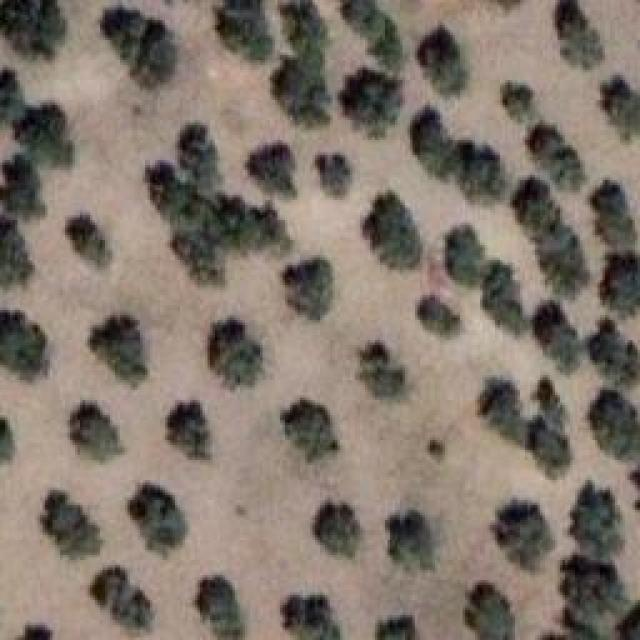Tree: (170, 192, 290, 276), (100, 3, 178, 84), (335, 65, 408, 138), (563, 480, 626, 560), (90, 308, 152, 388), (339, 0, 409, 70), (85, 560, 149, 634), (38, 485, 102, 557), (125, 483, 192, 551), (365, 193, 423, 270), (495, 500, 554, 574), (555, 560, 627, 617), (270, 60, 333, 125), (208, 318, 263, 391), (0, 0, 66, 60), (210, 0, 268, 68), (67, 401, 125, 468), (282, 400, 339, 468), (420, 32, 473, 104), (538, 228, 594, 296), (385, 513, 445, 576), (0, 308, 47, 388), (585, 385, 640, 453), (23, 103, 79, 168), (185, 573, 239, 640), (483, 263, 533, 335), (240, 140, 298, 198), (550, 0, 603, 63), (313, 498, 361, 566), (272, 0, 330, 56), (355, 338, 405, 402), (60, 210, 112, 271), (478, 378, 528, 441), (508, 180, 563, 237), (407, 105, 453, 172), (283, 258, 334, 318), (0, 155, 46, 221), (455, 143, 506, 202), (465, 583, 517, 640), (183, 125, 227, 189), (280, 592, 338, 640), (530, 128, 579, 183), (0, 220, 34, 298), (587, 325, 632, 382), (443, 223, 485, 284), (600, 75, 640, 136), (538, 303, 577, 365), (168, 400, 210, 457), (148, 163, 192, 217), (313, 148, 360, 197), (595, 188, 637, 241), (605, 253, 640, 313), (410, 298, 462, 337), (497, 83, 543, 126), (525, 423, 563, 475), (535, 374, 573, 426), (0, 67, 21, 131), (367, 617, 420, 640), (492, 0, 523, 20), (0, 420, 15, 460), (20, 622, 53, 640), (428, 438, 451, 461)
